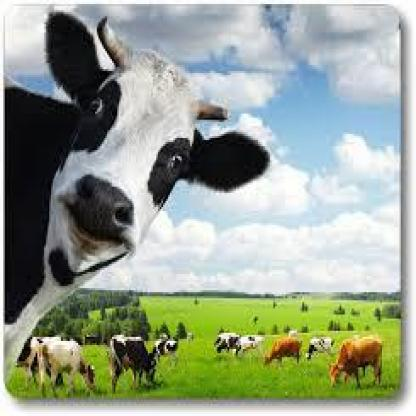cow: (0, 10, 272, 388), (36, 337, 96, 398), (12, 336, 76, 390), (328, 334, 384, 390), (108, 335, 157, 394), (263, 338, 302, 370), (231, 333, 265, 359), (305, 336, 335, 362), (152, 338, 179, 364), (215, 331, 242, 357)
